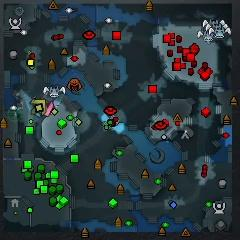x1: (44, 101, 53, 117)
x2: (30, 99, 46, 115)
x3: (34, 112, 42, 118)
